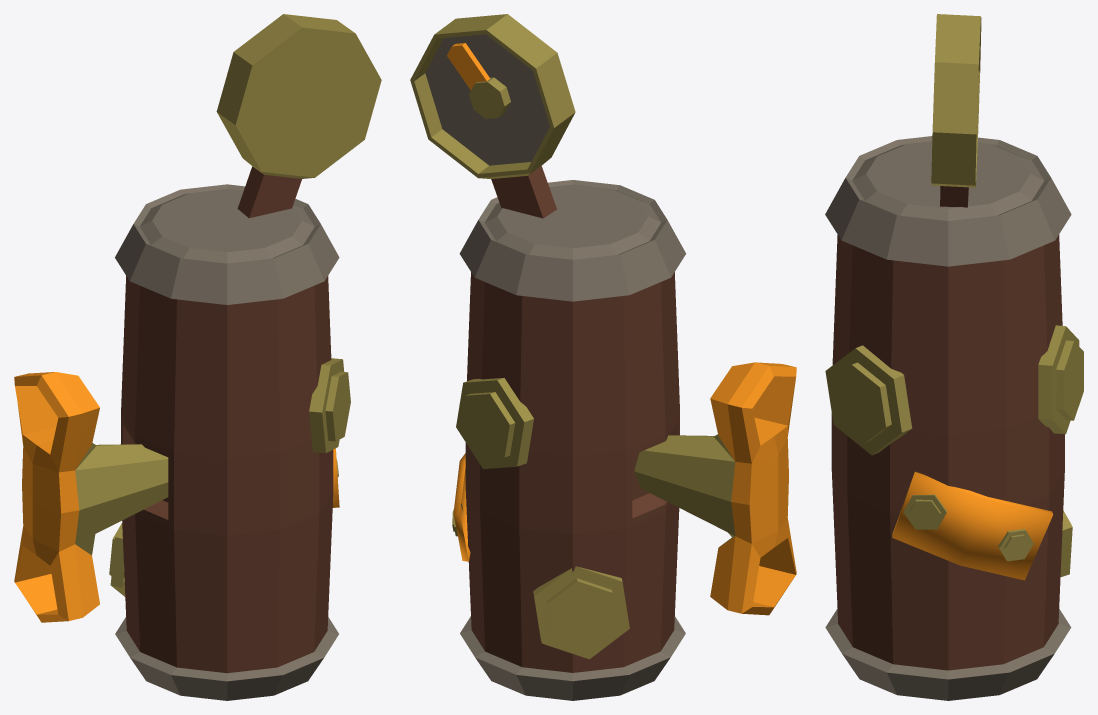
Rendered from BombaCowboy.fbx.
3 renders of one model, left to right at view 1: azimuth 30°, elevation 25°; view 2: azimuth 150°, elevation 25°; view 3: azimuth 270°, elevation 25°, orthographic. The views are drawn at different scales.
Parts seen in each view (by area): view 1: Bomba; view 2: Bomba; view 3: Bomba.
Part boxes in pixels (left/top/right/bottom): Bomba: left=14, top=14, right=381, bottom=700; Bomba: left=410, top=14, right=796, bottom=700; Bomba: left=825, top=14, right=1083, bottom=700.
Bounding box in the file's own units: 9.34 × 16 × 5.49.
